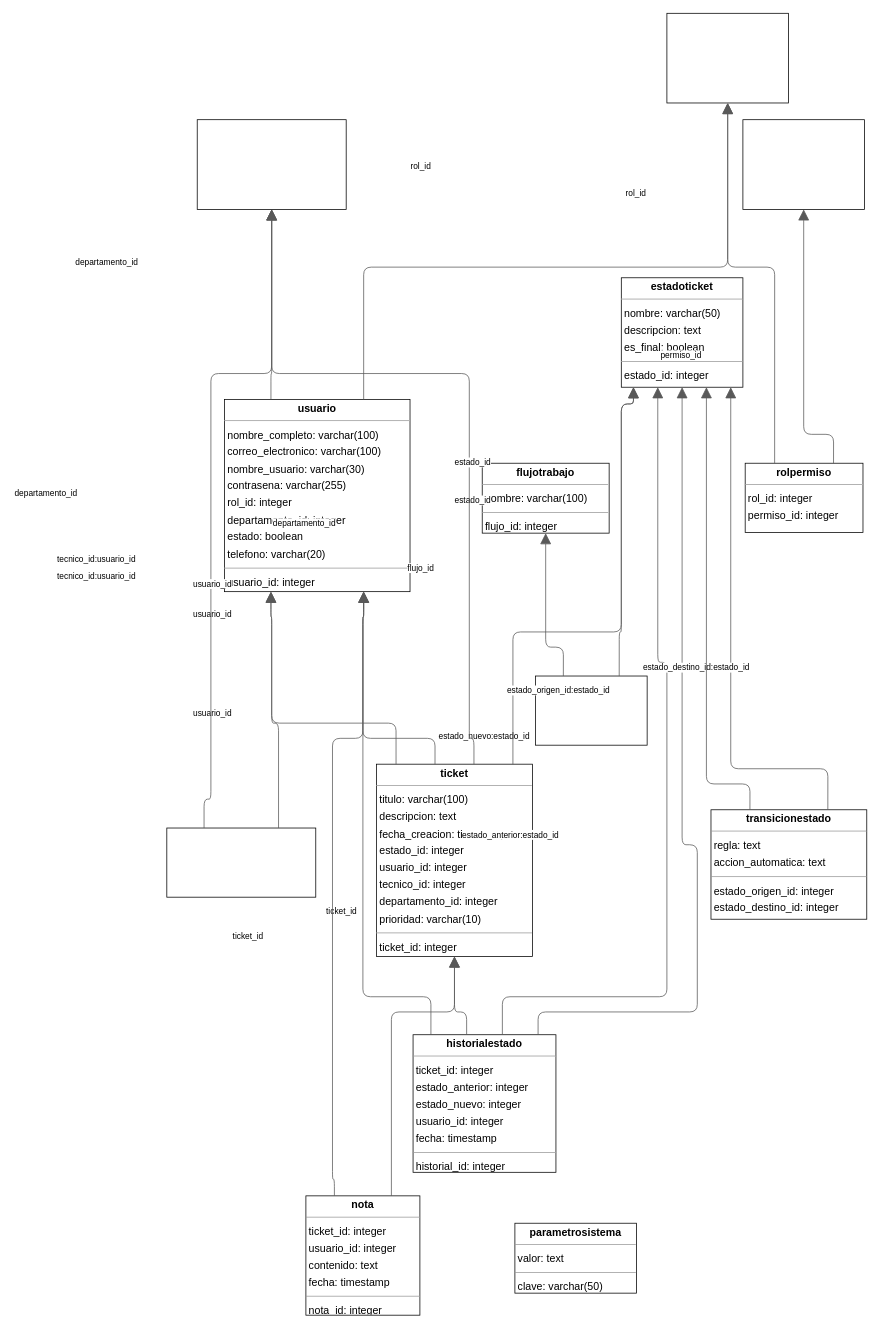
This 880x1329 diagram has some shape labels left out. Each missing label, with the box of its shape:
departamento nombre: varchar(50) descripcion: text departamento_id: integer: (196, 119, 346, 209)
flujoestado flujo_id: integer estado_id: integer: (535, 675, 647, 745)
permiso nombre: varchar(50) descripcion: text permiso_id: integer: (742, 119, 864, 209)
rol nombre: varchar(50) descripcion: text rol_id: integer: (666, 13, 788, 103)
tecnico_departamento tecnico_id: integer departamento_id: integer: (166, 827, 316, 897)
